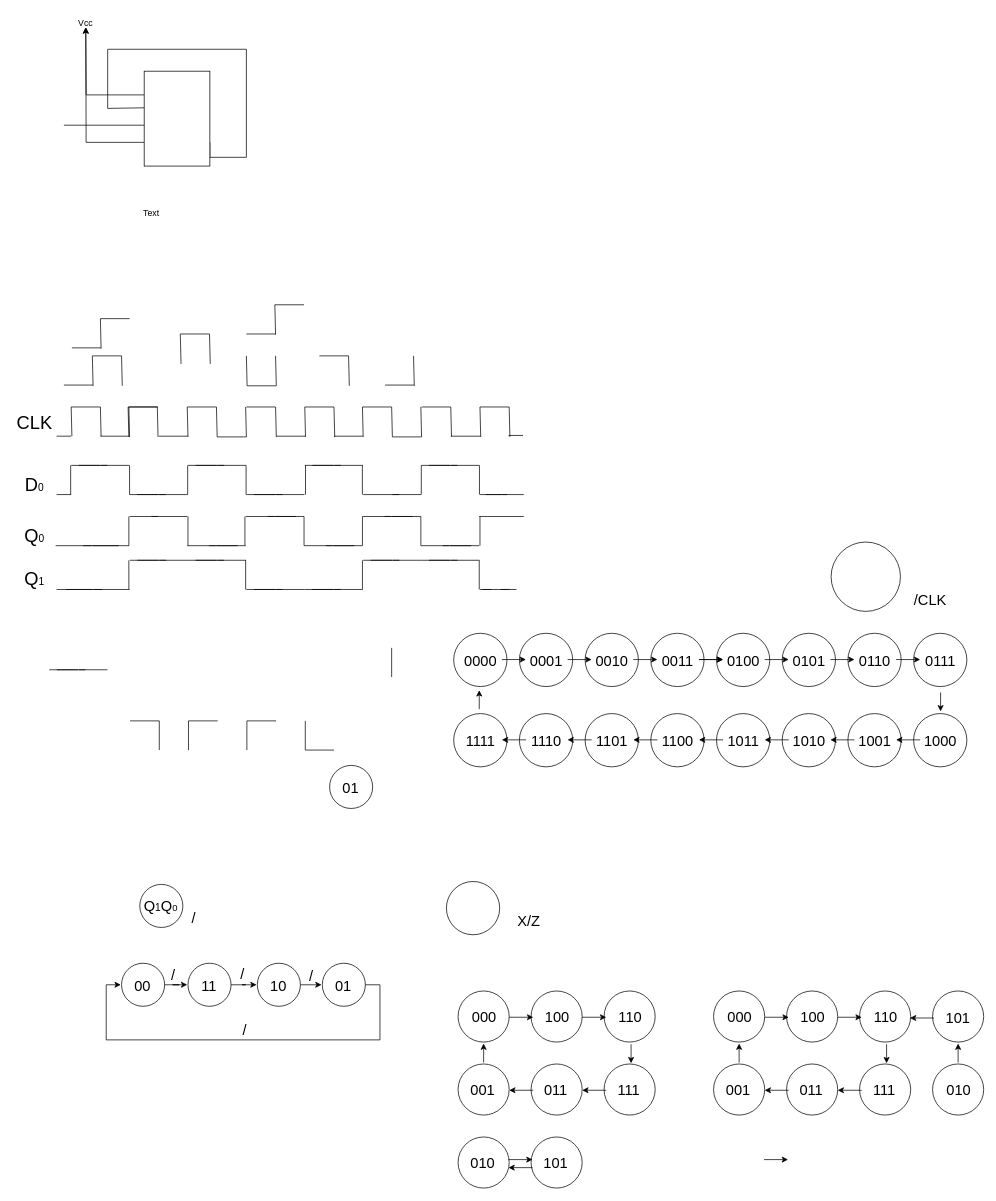
This 996x1201 diagram has some shape labels left out. Here are the shapes that lost their labels. From the top down, the centre of each, then its label:
At pixel 865 576: "A 3 A 2 A 1 A 0".
At pixel 473 908: "Q 0 Q 1 Q 2".
